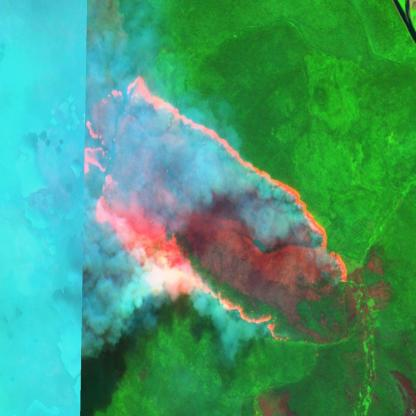fire: (57, 75, 348, 349)
